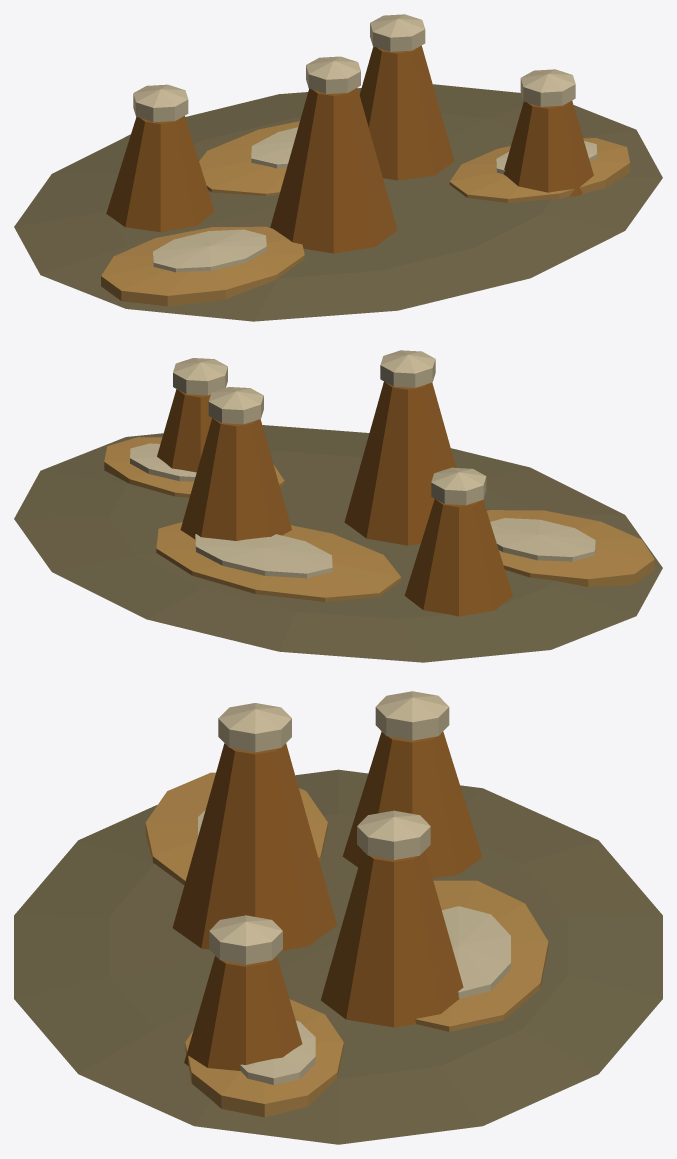
File: sulphur_vent_cluster_a.obj
3 views of the same model, one above another, from view 1: azimuth 30°, elevation 25°; view 2: azimuth 150°, elevation 25°; view 3: azimuth 270°, elevation 25° (orthographic). The views are drawn at different scales.
Parts seen in each view (by area): view 1: vent_bed, vent_1, vent_2, vent_0, crust_plate_0, vent_3, crust_plate_2, crust_plate_1, carbonate_rim_0, vent_crown_0, vent_crown_2, vent_crown_3 (+2 smaller); view 2: vent_bed, vent_1, vent_2, vent_0, crust_plate_1, crust_plate_0, carbonate_rim_1, carbonate_rim_0, vent_3, crust_plate_2, vent_crown_0, vent_crown_1 (+3 smaller); view 3: vent_bed, vent_1, vent_2, vent_0, vent_3, crust_plate_1, crust_plate_2, crust_plate_0, carbonate_rim_1, vent_crown_0, vent_crown_3, vent_crown_1 (+2 smaller).
Part boxes in pixels (x1,y1,x2,y2): vent_bed: [14, 84, 662, 321]; vent_1: [270, 87, 397, 253]; vent_2: [359, 45, 454, 180]; vent_0: [106, 116, 214, 232]; crust_plate_0: [101, 226, 304, 306]; vent_3: [503, 100, 593, 196]; crust_plate_2: [449, 138, 630, 202]; crust_plate_1: [199, 121, 299, 195]; carbonate_rim_0: [153, 229, 266, 272]; vent_crown_0: [133, 84, 188, 122]; vent_crown_2: [370, 14, 425, 51]; vent_crown_3: [520, 69, 575, 106]; vent_bed: [14, 425, 662, 662]; vent_1: [344, 381, 456, 545]; vent_2: [180, 418, 291, 540]; vent_0: [404, 499, 513, 616]; crust_plate_1: [156, 522, 401, 601]; crust_plate_0: [487, 510, 654, 586]; carbonate_rim_1: [195, 534, 332, 578]; carbonate_rim_0: [490, 518, 595, 561]; vent_3: [157, 389, 211, 472]; crust_plate_2: [104, 437, 284, 497]; vent_crown_0: [431, 467, 486, 505]; vent_crown_1: [380, 350, 435, 387]; vent_bed: [14, 769, 662, 1144]; vent_1: [172, 743, 337, 950]; vent_2: [321, 851, 463, 1027]; vent_0: [342, 731, 482, 877]; vent_3: [184, 955, 302, 1070]; crust_plate_1: [415, 880, 548, 1031]; crust_plate_2: [185, 999, 343, 1117]; crust_plate_0: [145, 772, 327, 885]; carbonate_rim_1: [442, 906, 510, 998]; vent_crown_0: [375, 691, 449, 740]; vent_crown_3: [209, 915, 282, 964]; vent_crown_1: [218, 703, 291, 752].
Size of the model in its own units: 9.6 by 2.86 by 7.02.
